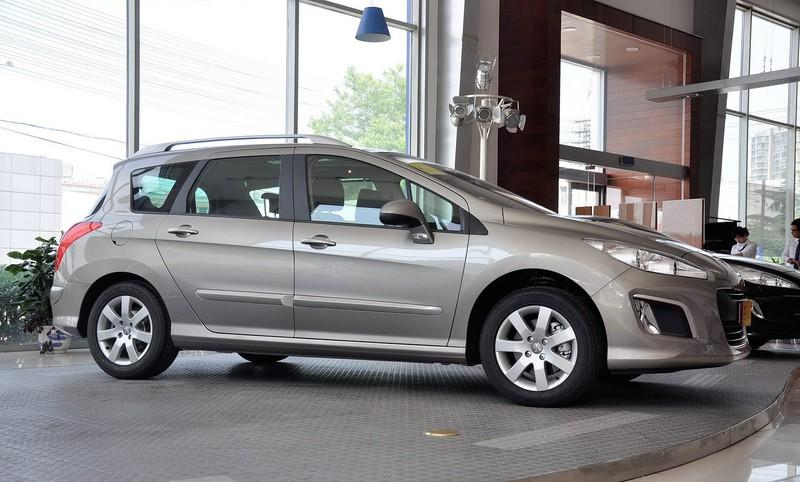Wagon: (48, 132, 752, 406)
